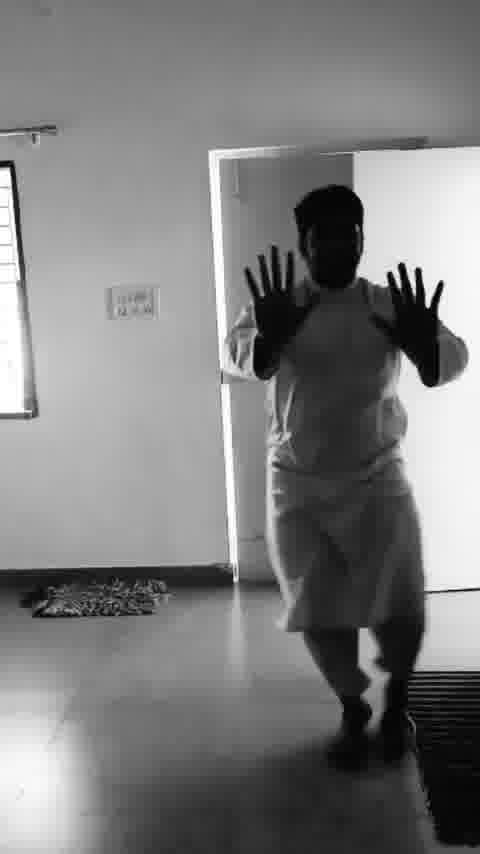duck: (206, 167, 460, 778)
